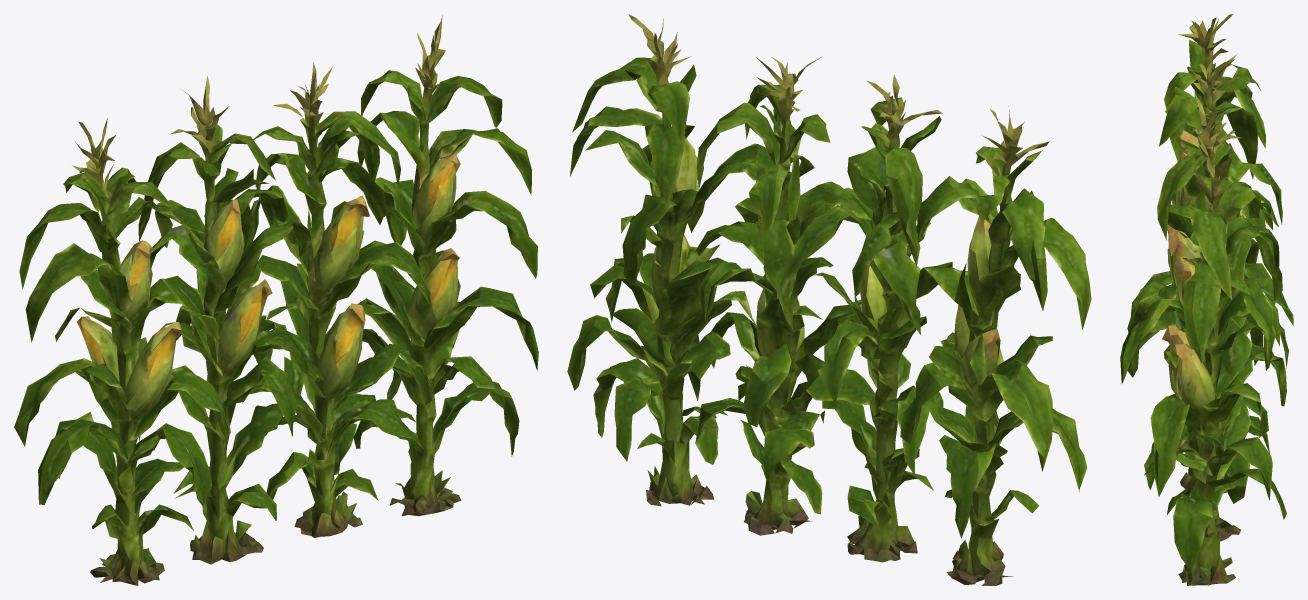
File: crop_corn_lite.glb
3 renders of one model, left to right at view 1: azimuth 30°, elevation 25°; view 2: azimuth 150°, elevation 25°; view 3: azimuth 270°, elevation 25°, orthographic. The views are drawn at different scales.
Visible parts, largest first — view 1: geometry_0; view 2: geometry_0; view 3: geometry_0.
Boxes of the visible parts, left/top/right/bottom form: geometry_0: left=14, top=15, right=538, bottom=585; geometry_0: left=567, top=14, right=1091, bottom=585; geometry_0: left=1120, top=14, right=1293, bottom=585.
Bounding box in the file's own units: 1.92 × 1.73 × 0.6261.
1 material, 1 textured.
